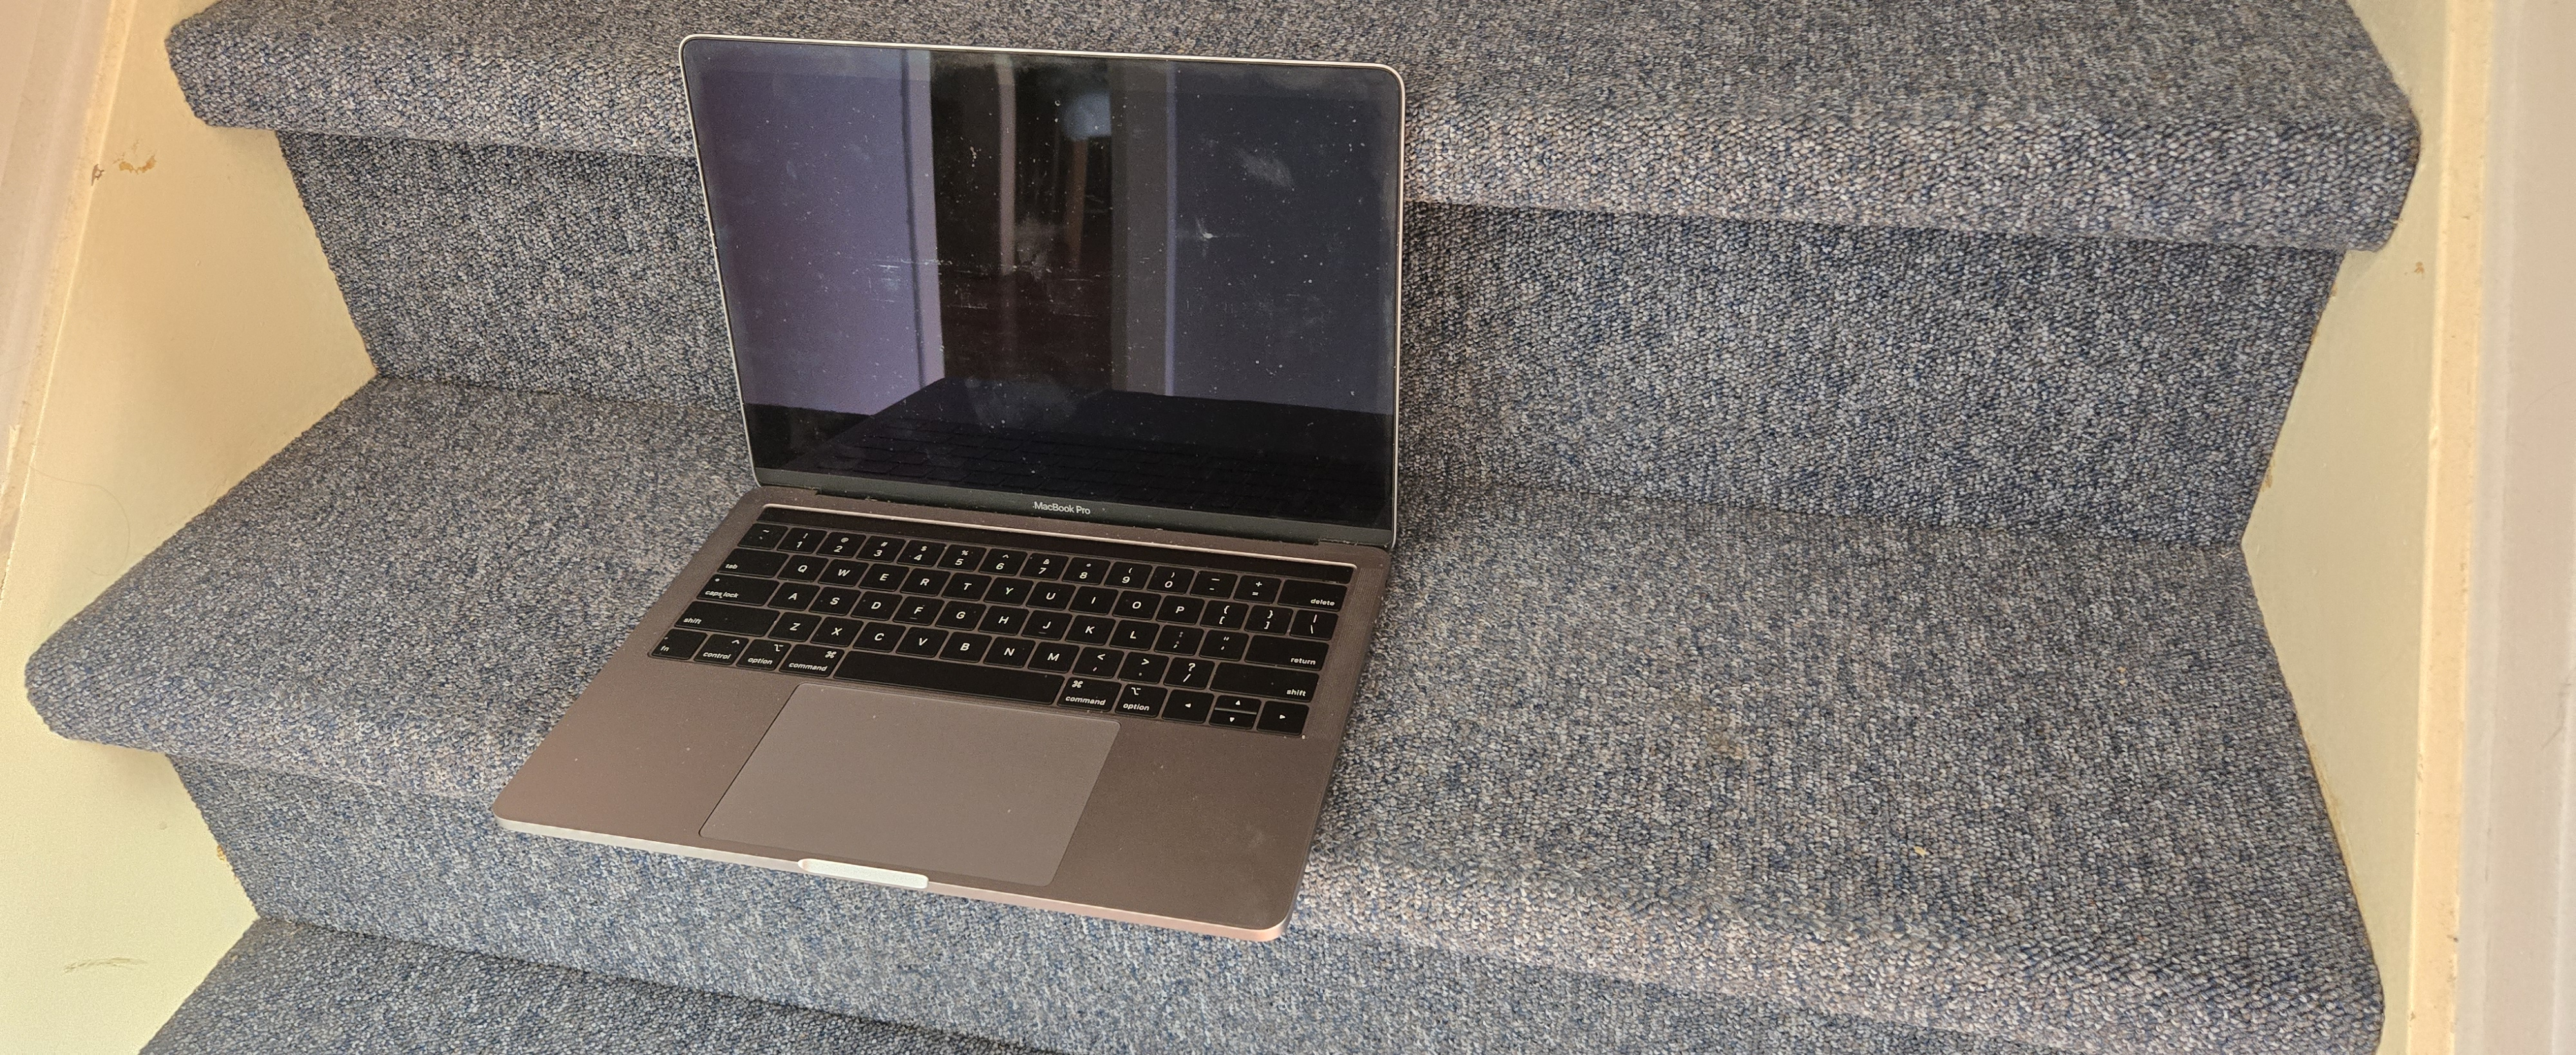laptop: (429, 0, 1449, 999)
